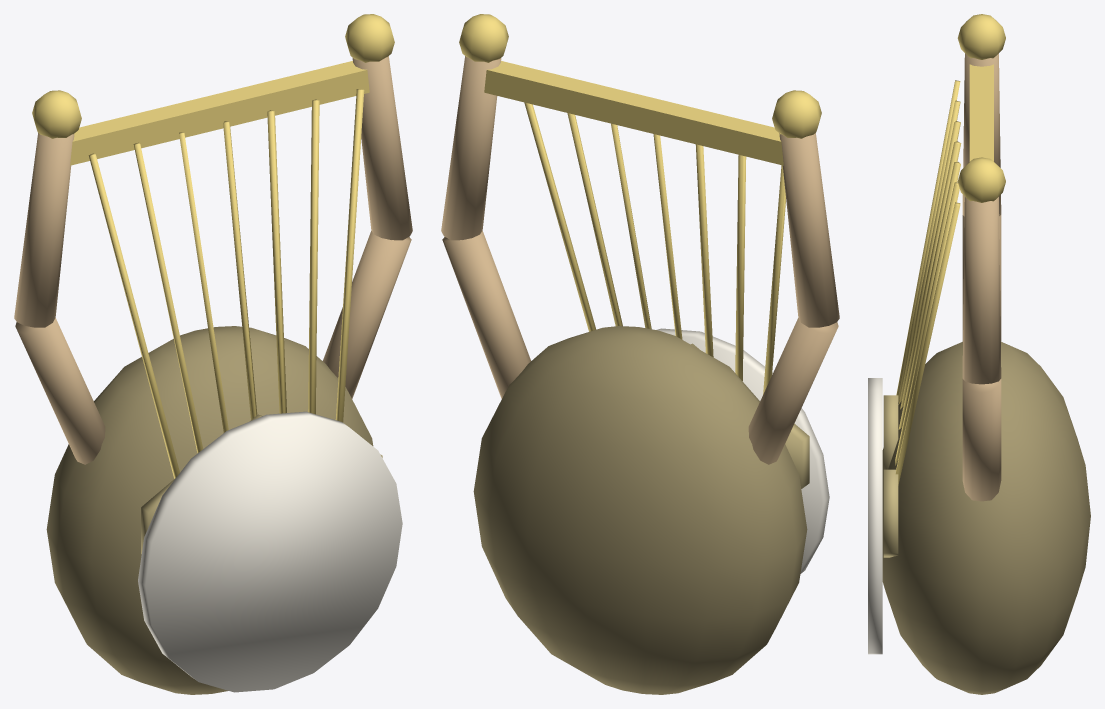
File: lira.glb
3 views of the same model, side by side, from view 1: azimuth 30°, elevation 25°; view 2: azimuth 150°, elevation 25°; view 3: azimuth 270°, elevation 25° (orthographic). The views are drawn at different scales.
Parts seen in each view (by area): view 1: lira; view 2: lira; view 3: lira.
Part boxes in pixels (x1=…): lira: x1=14, y1=14, x2=412, y2=694; lira: x1=441, y1=14, x2=839, y2=694; lira: x1=868, y1=14, x2=1090, y2=694.
Size of the model in its own units: 0.3518 by 0.54 by 0.184.
